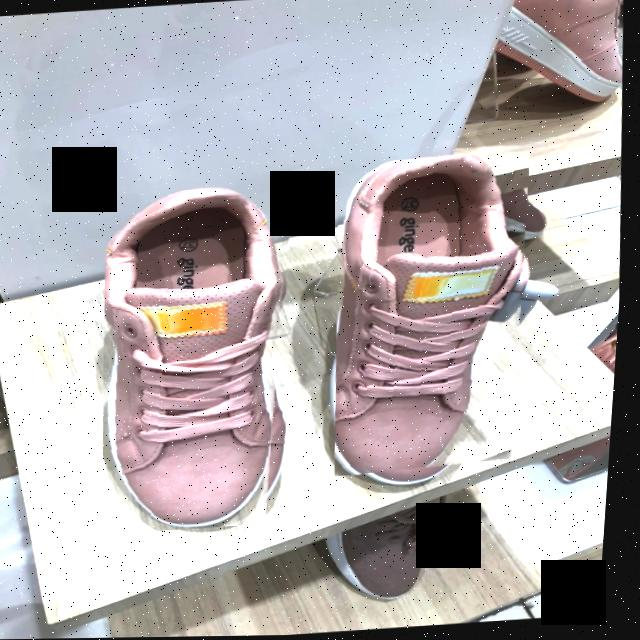shoe: (341, 157, 529, 473), (109, 200, 286, 530)
